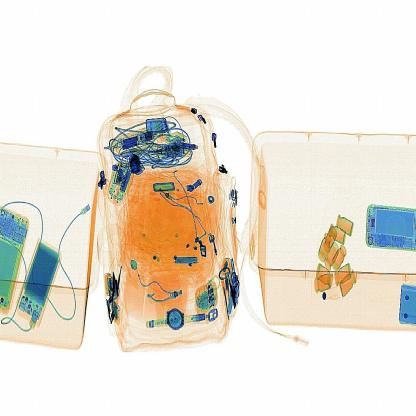scissors: (123, 148, 151, 190)
